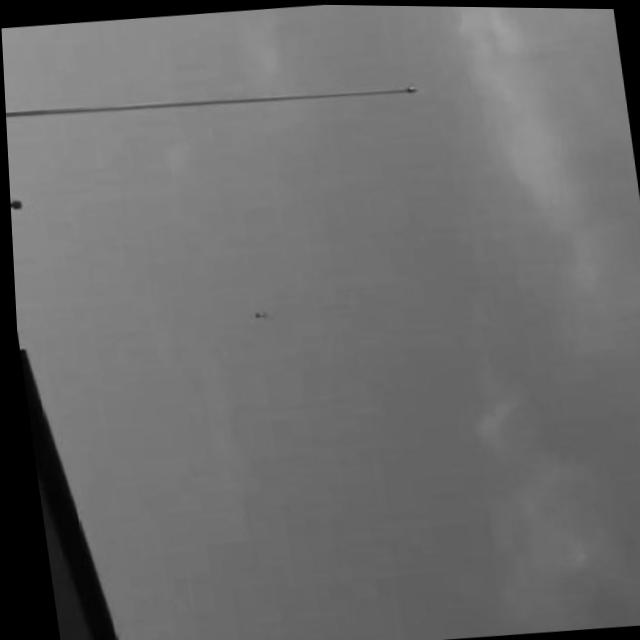helikopter: (247, 309, 266, 319)
